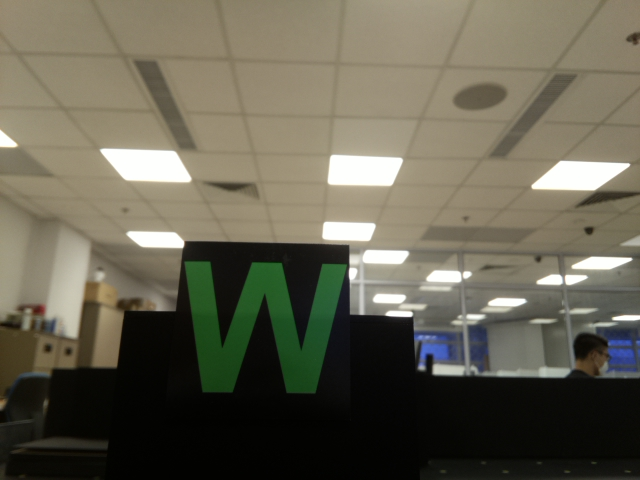w: (180, 251, 350, 399)
